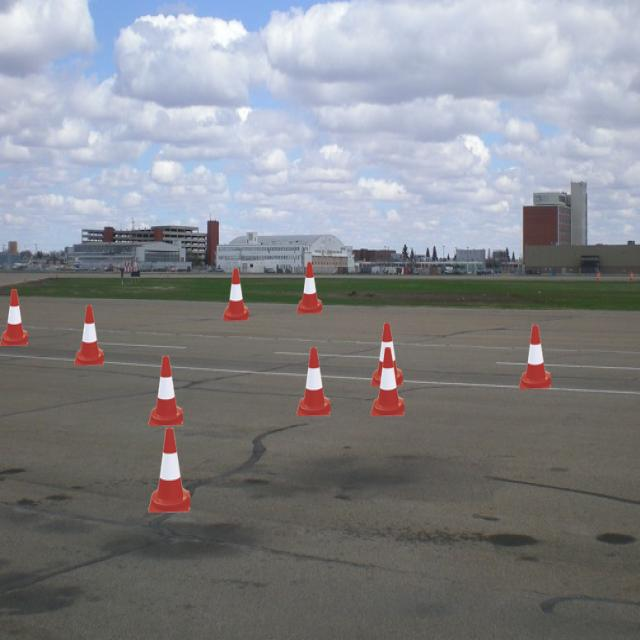orange_cone: (148, 427, 190, 513), (148, 356, 183, 426), (296, 348, 331, 417), (370, 348, 404, 417), (370, 322, 402, 387), (519, 325, 551, 389), (74, 305, 104, 366), (0, 289, 28, 346), (222, 268, 249, 321), (297, 262, 322, 314)
